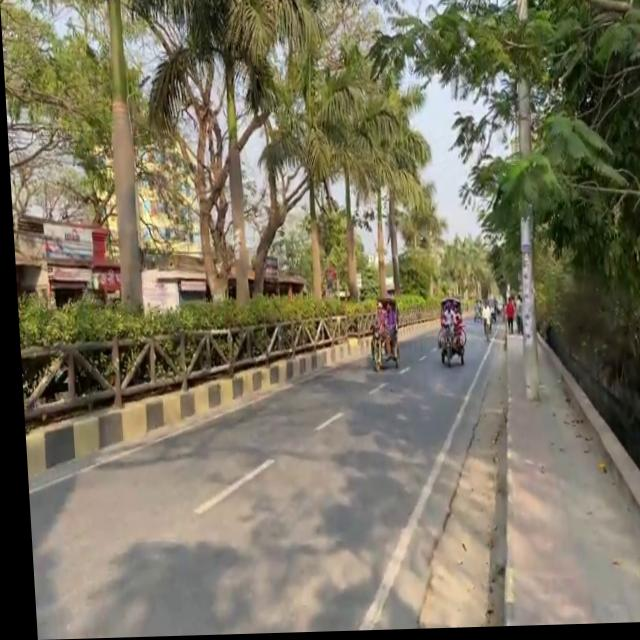Construction-barrier: (15, 305, 444, 487), (332, 317, 518, 632), (462, 321, 518, 629)
Fallen-tree: (362, 323, 396, 374), (431, 318, 463, 370), (476, 310, 490, 344)
Light-pole: (499, 0, 547, 404)
Pothole: (394, 310, 640, 630)
